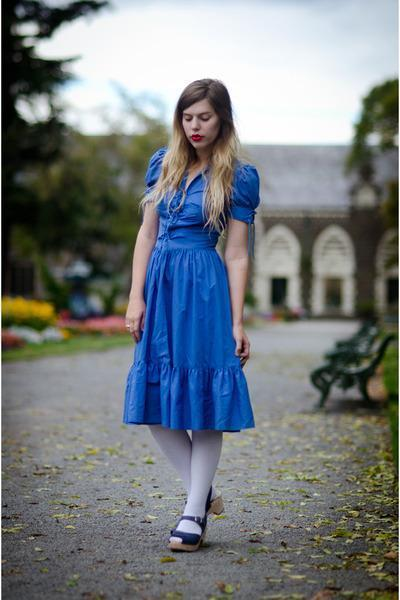dress: (123, 156, 259, 432)
shoe: (180, 492, 214, 553)
